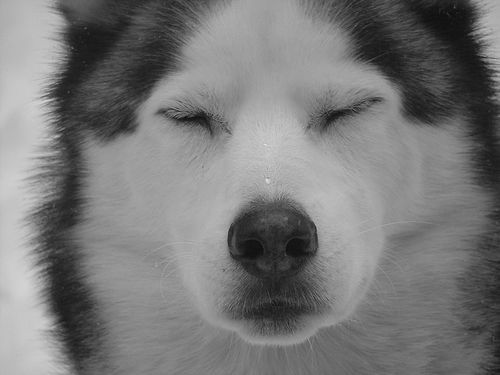dog: (19, 1, 497, 372)
